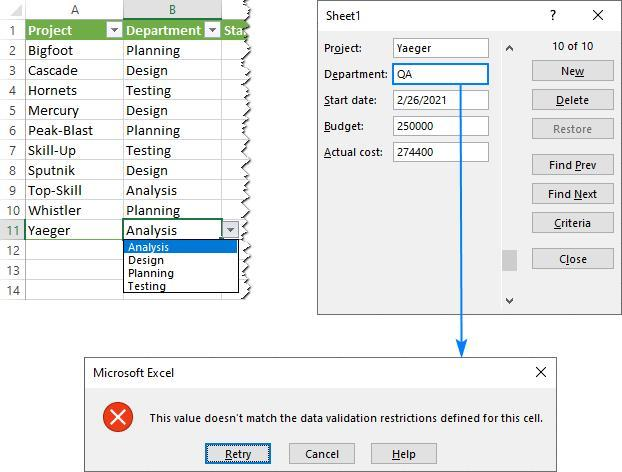button: (533, 248, 615, 270), (533, 118, 615, 139), (533, 184, 615, 205), (534, 213, 615, 234), (533, 62, 616, 82), (534, 91, 615, 111), (533, 156, 615, 175), (124, 241, 239, 254), (206, 444, 272, 465), (290, 444, 356, 465), (372, 444, 438, 465)
dropdown: (124, 219, 239, 240)
icon: (536, 366, 549, 380), (592, 10, 605, 22)
input: (394, 64, 490, 85), (395, 142, 491, 163), (393, 118, 489, 137), (395, 38, 490, 57), (394, 92, 489, 110)
label: (324, 146, 385, 162), (322, 68, 391, 82), (323, 94, 380, 109), (324, 120, 366, 135), (128, 268, 176, 281), (324, 42, 365, 57), (129, 256, 165, 269), (128, 283, 168, 294)
table: (2, 1, 223, 241)
